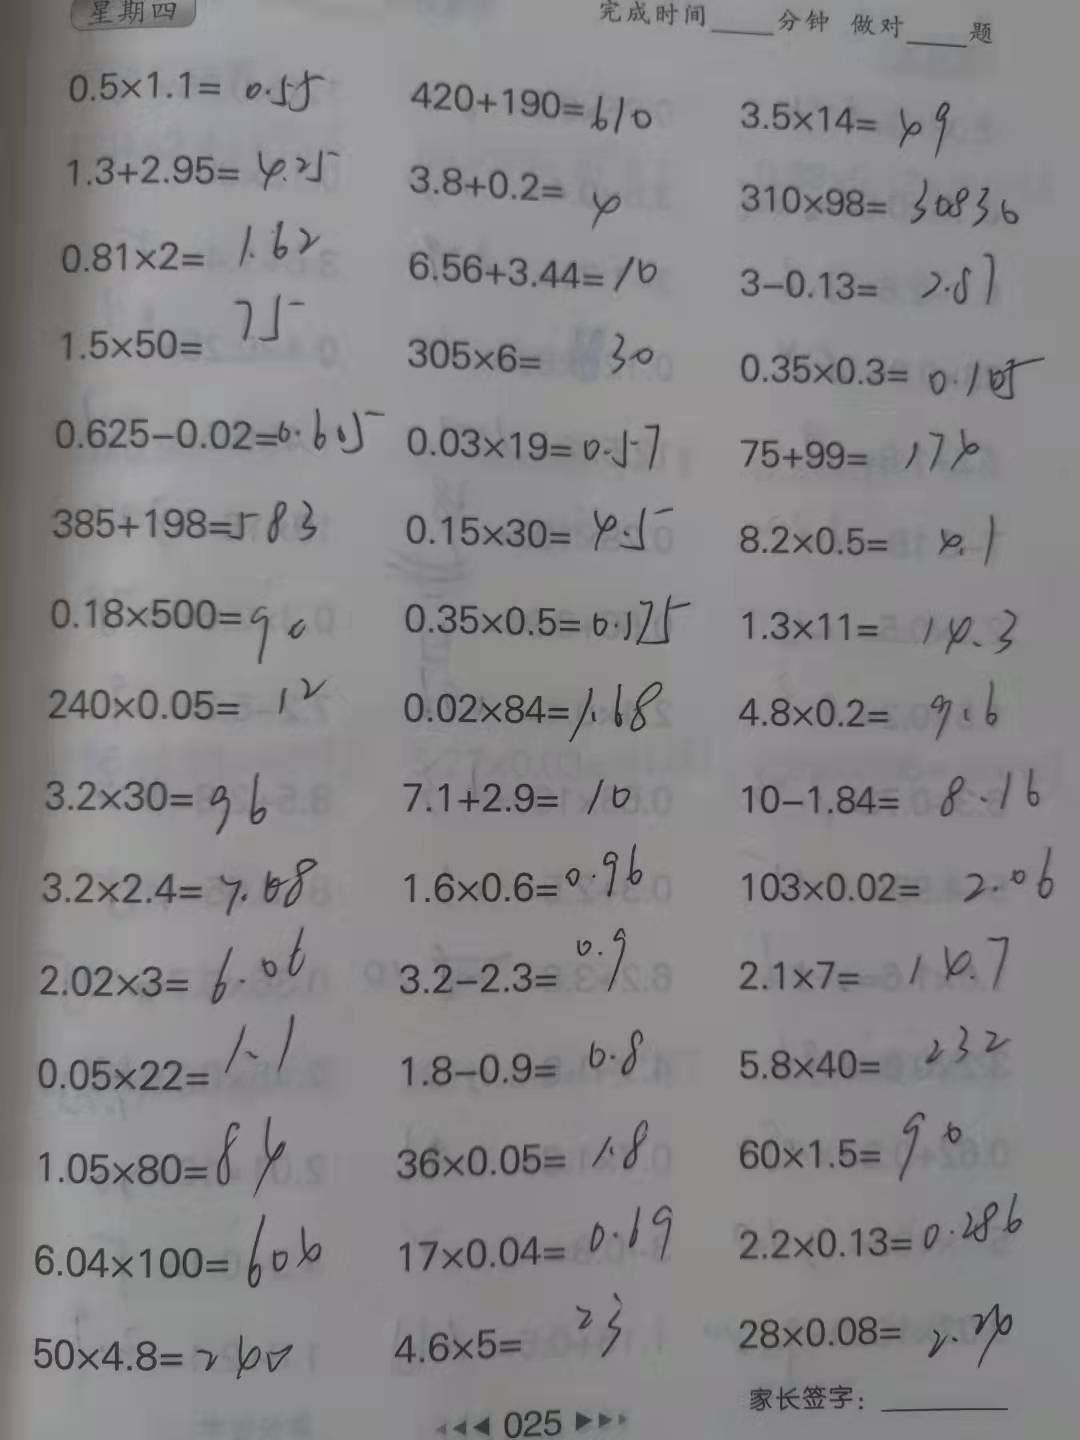equation: (19, 1197, 327, 1291), (28, 1019, 324, 1109), (33, 916, 315, 1007), (393, 1194, 692, 1279), (729, 1294, 1018, 1381), (41, 395, 397, 464), (40, 577, 313, 664), (377, 1284, 653, 1369), (732, 329, 1051, 403), (54, 285, 307, 376), (23, 1113, 292, 1200), (390, 671, 680, 749), (725, 1189, 1035, 1262), (15, 1316, 305, 1394), (393, 578, 700, 650), (729, 494, 1010, 573), (742, 846, 1068, 913), (728, 1015, 1019, 1089), (724, 600, 1041, 667), (729, 1102, 967, 1192), (725, 81, 970, 167), (388, 923, 650, 1003), (728, 756, 1054, 820), (722, 242, 1006, 314), (387, 1110, 653, 1187), (733, 931, 1021, 1001), (390, 406, 675, 476), (33, 761, 278, 842), (390, 831, 653, 907), (732, 173, 1041, 237), (731, 678, 1022, 744), (393, 1019, 653, 1092), (388, 494, 683, 558), (29, 846, 319, 909), (53, 56, 327, 122), (729, 407, 988, 477), (398, 68, 665, 136), (397, 235, 665, 302), (400, 152, 634, 228), (386, 319, 664, 382), (61, 133, 341, 194), (54, 209, 327, 271), (36, 670, 328, 728), (47, 492, 334, 547), (391, 771, 647, 824)
